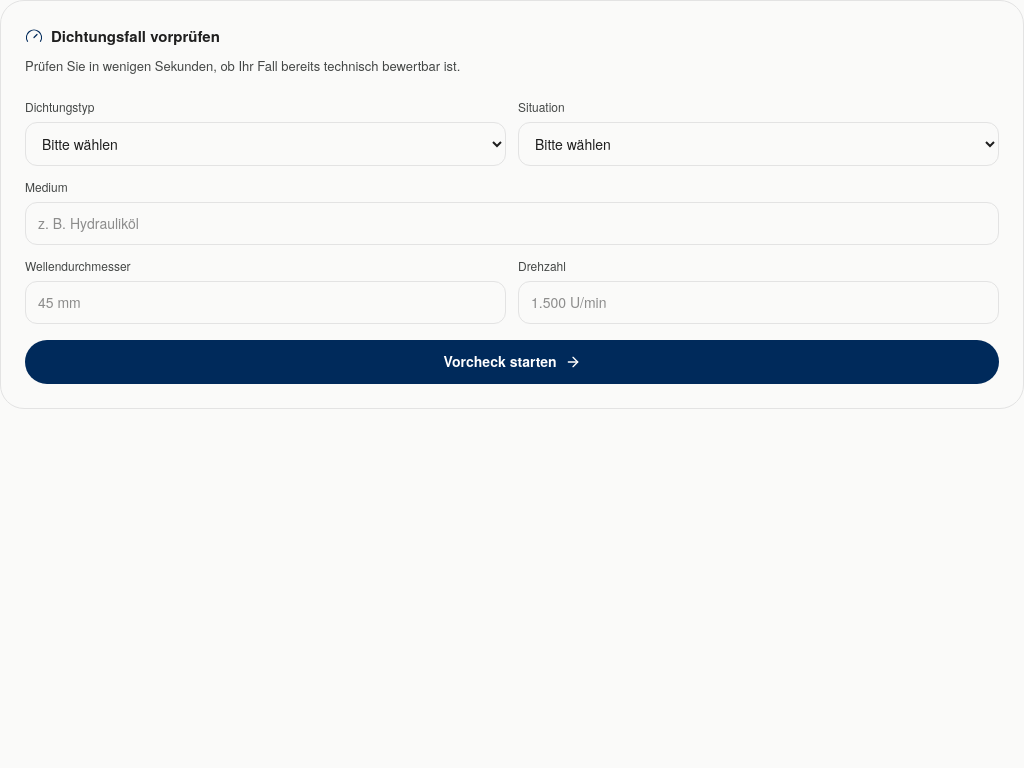
Test: HeroPrecheckCard › shows at most 3 open points in the compact result
Select "RWDR" in the dropdown labelled "Dichtungstyp" at (266, 144), box [25,122,506,166]
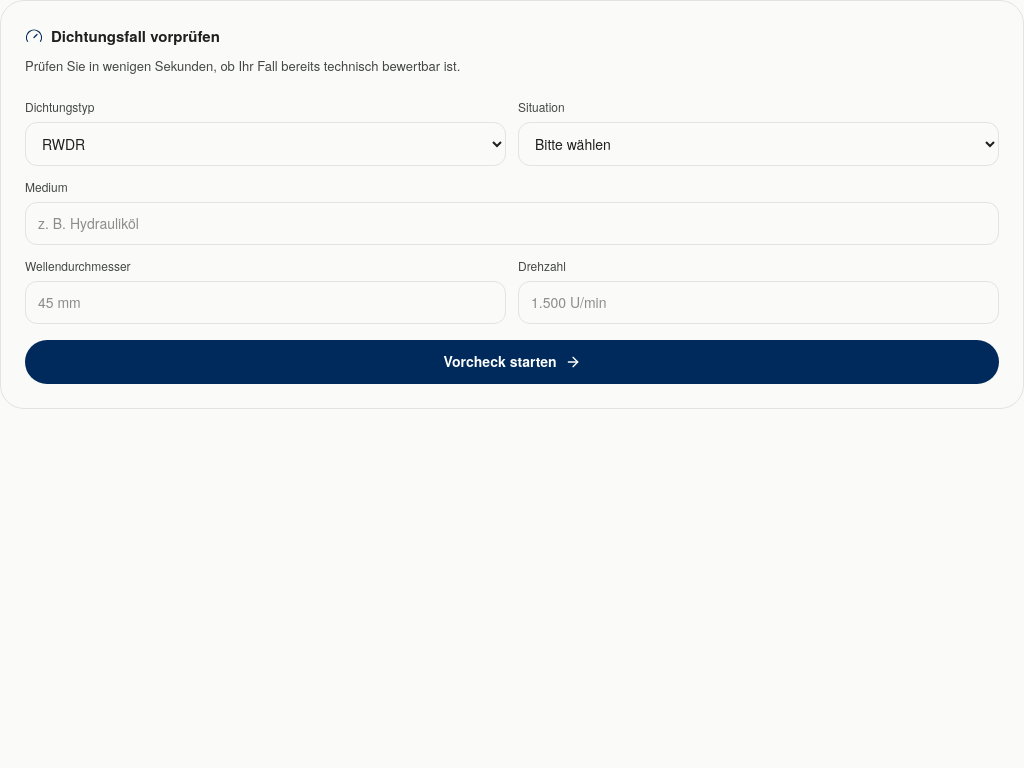
Type "Hydrauliköl" into the field labelled "Medium".
click(512, 223); type("Hydrauliköl")  # box [25,202,999,244]
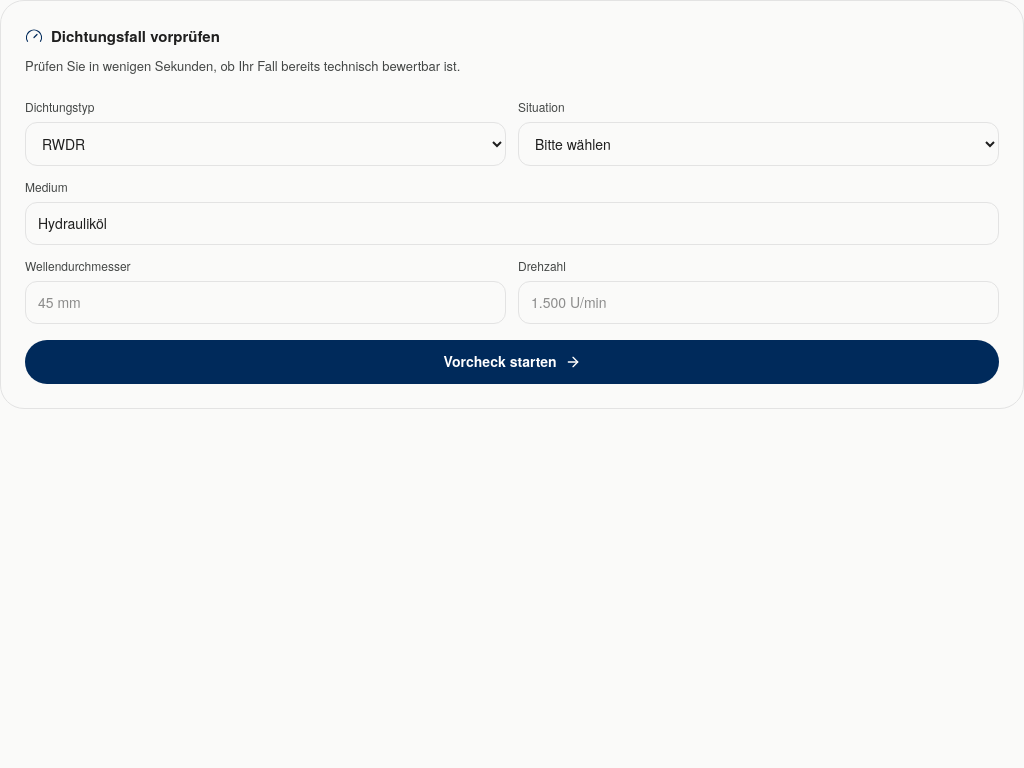
Click the button "Vorcheck starten".
click(512, 362)  # box [25,340,999,384]
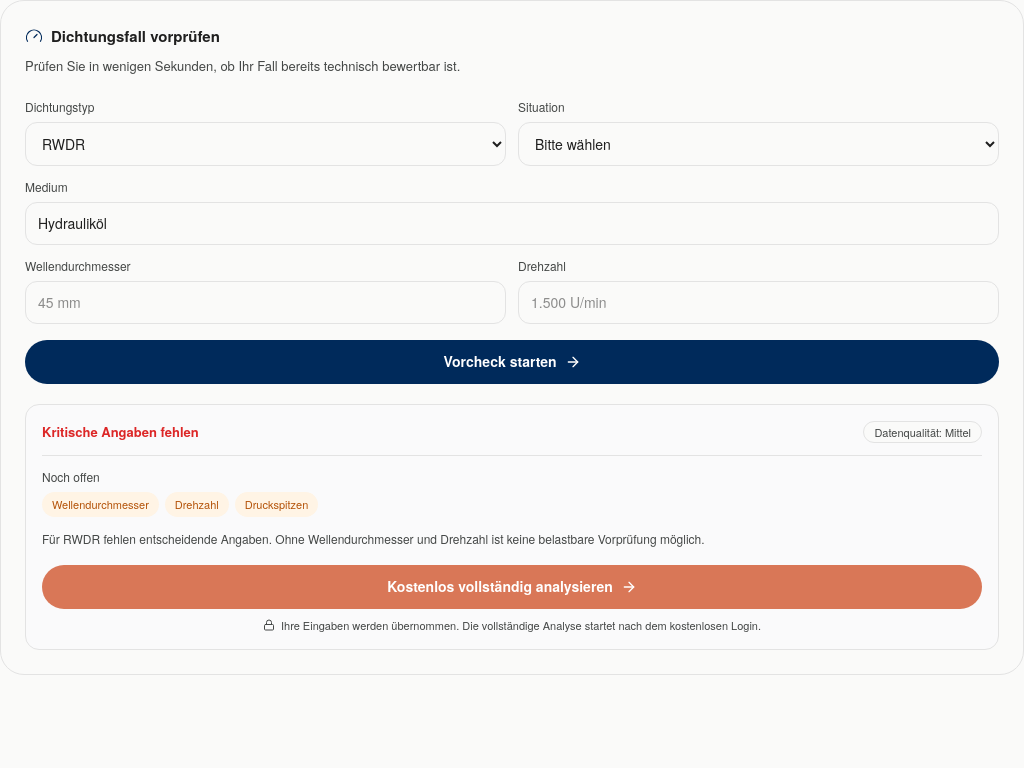
Result: the list is shown at [42,492,318,516]
